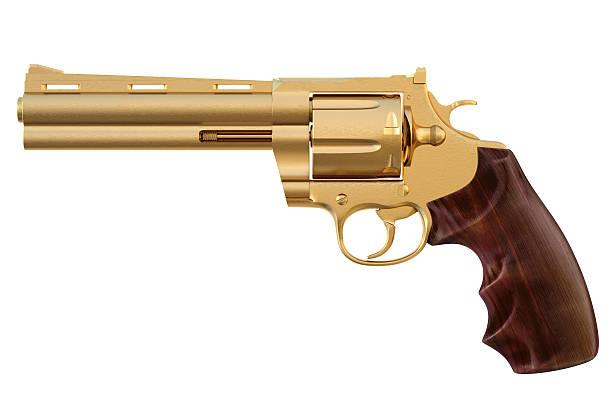weapon: (12, 61, 612, 375)
